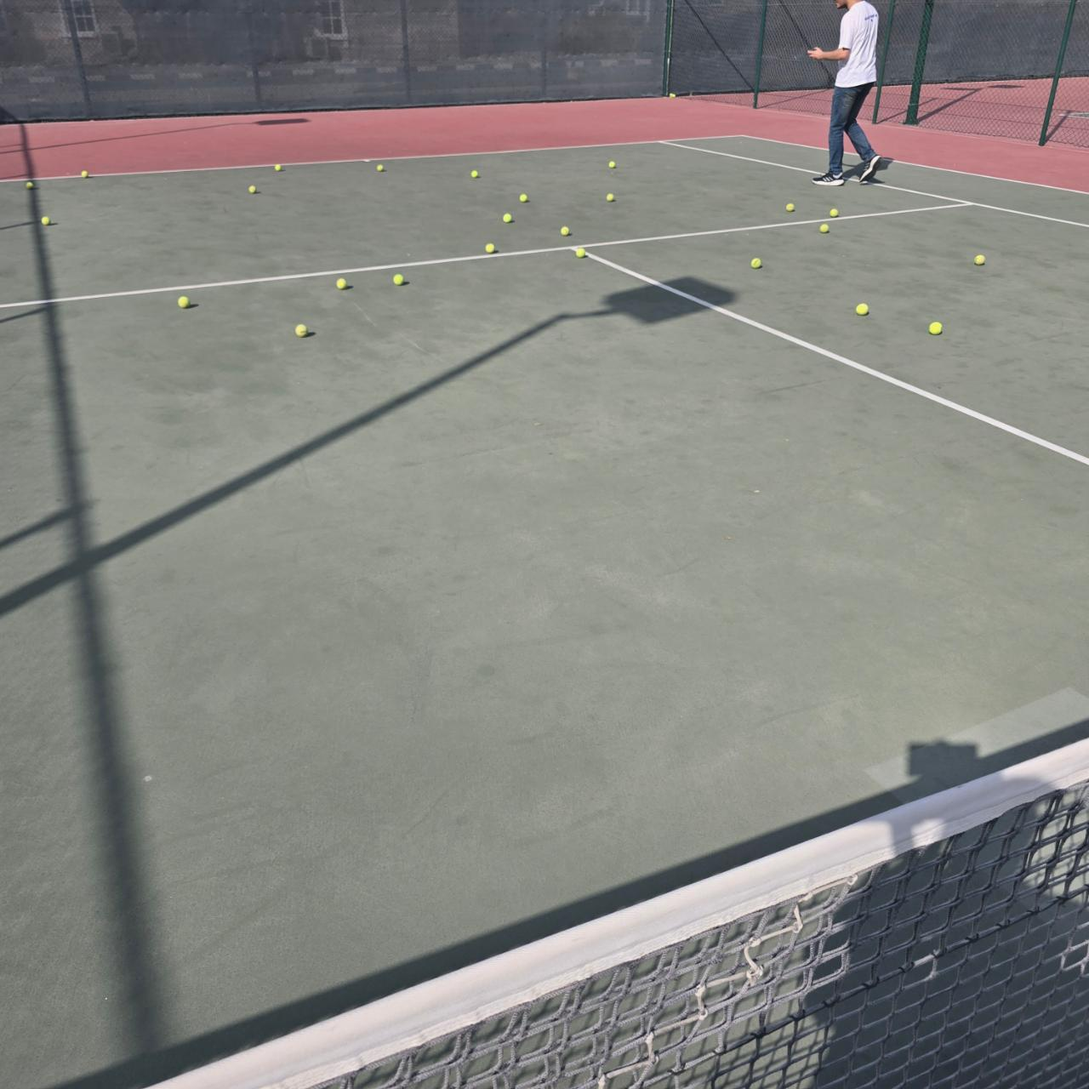tennis-ball: (750, 254, 765, 270), (929, 319, 944, 334), (856, 301, 870, 316), (294, 323, 308, 337), (575, 245, 588, 259), (179, 293, 191, 307), (393, 272, 405, 286), (335, 278, 347, 291), (972, 254, 986, 265), (828, 207, 839, 219), (784, 202, 795, 213), (820, 222, 830, 234), (502, 213, 513, 223), (41, 215, 51, 226), (605, 193, 615, 203), (560, 227, 570, 237), (518, 193, 529, 202), (485, 243, 495, 252), (79, 170, 89, 179), (248, 185, 257, 194), (25, 181, 34, 190), (376, 164, 385, 172), (608, 160, 616, 168), (470, 170, 478, 178), (274, 164, 282, 171), (669, 92, 676, 98)
